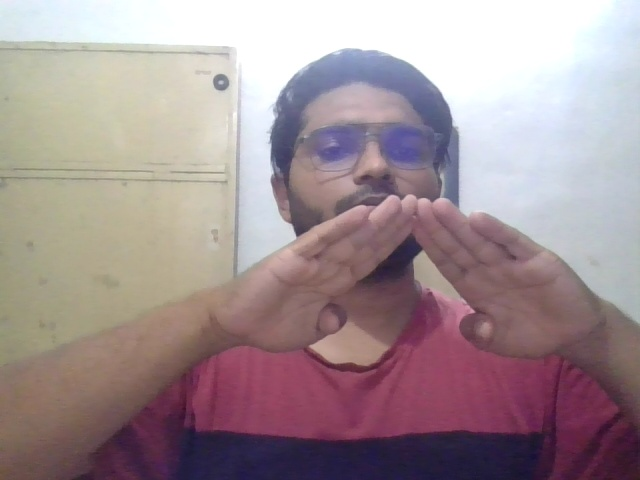thankyou: (223, 190, 616, 331)
